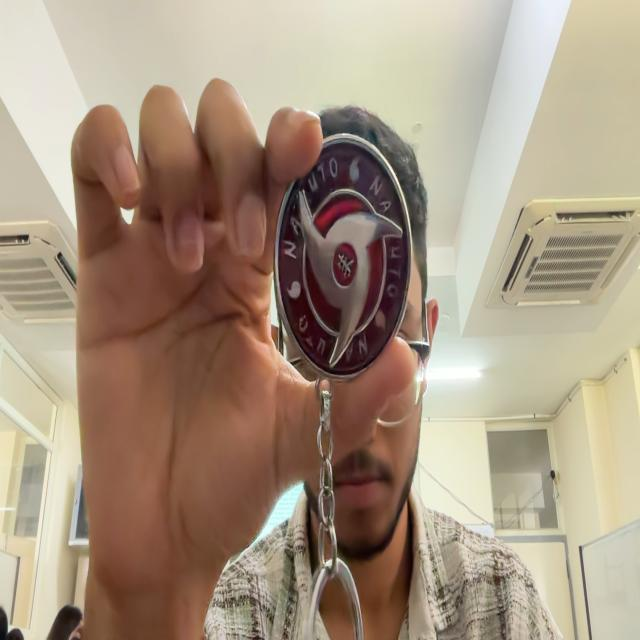dangerous: (274, 134, 412, 639)
